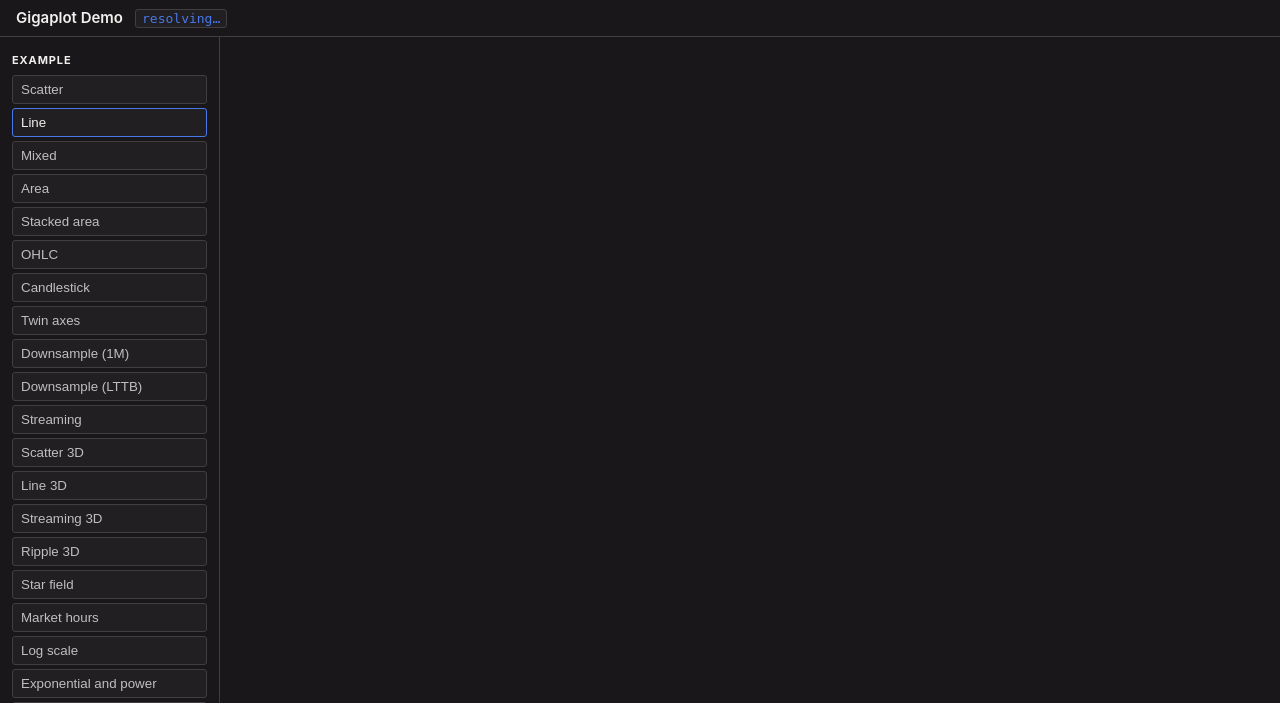
Test: opens the example named in the URL hash, and names the one picked
Click the button with test id "example-scatter": x=110, y=90 top-left (12, 75), bottom-right (207, 104)
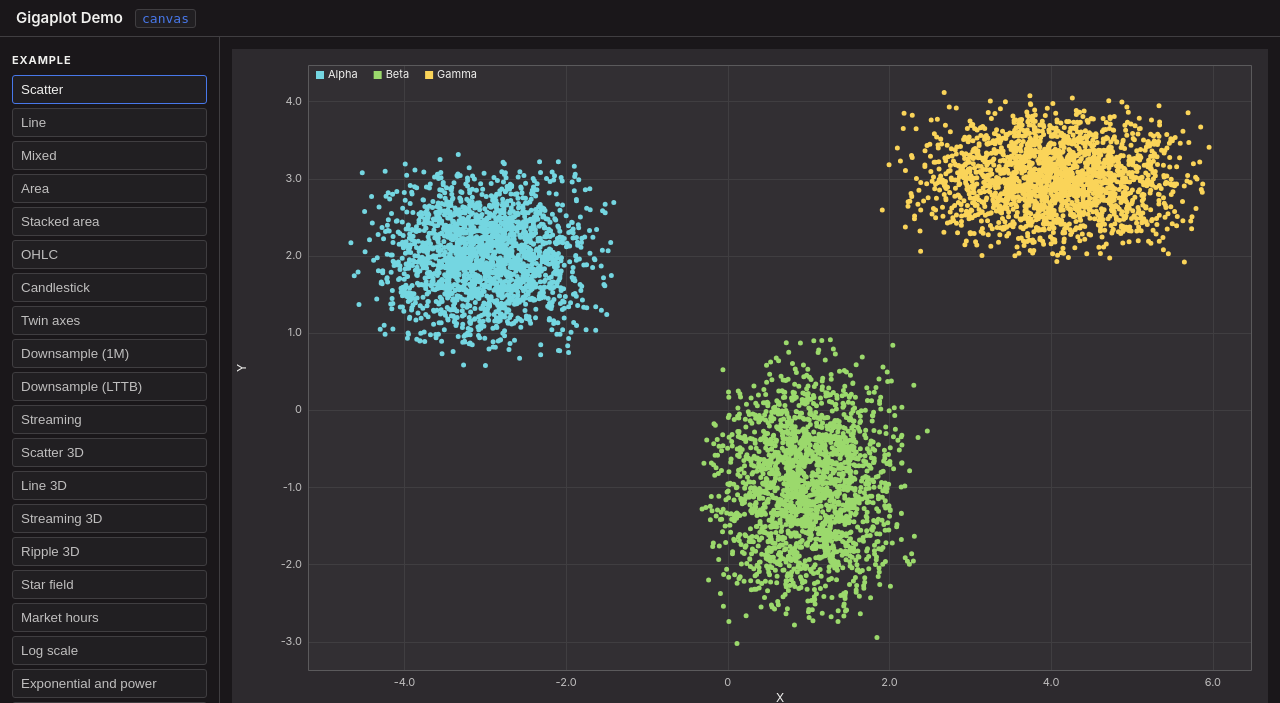
Expected: the button with test id "example-scatter" has class "is-selected", top-left (12, 75), bottom-right (207, 104)
